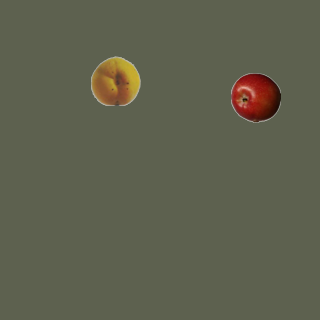Apple Braeburn: (230, 72, 280, 122)
Peach 2: (90, 55, 140, 105)
